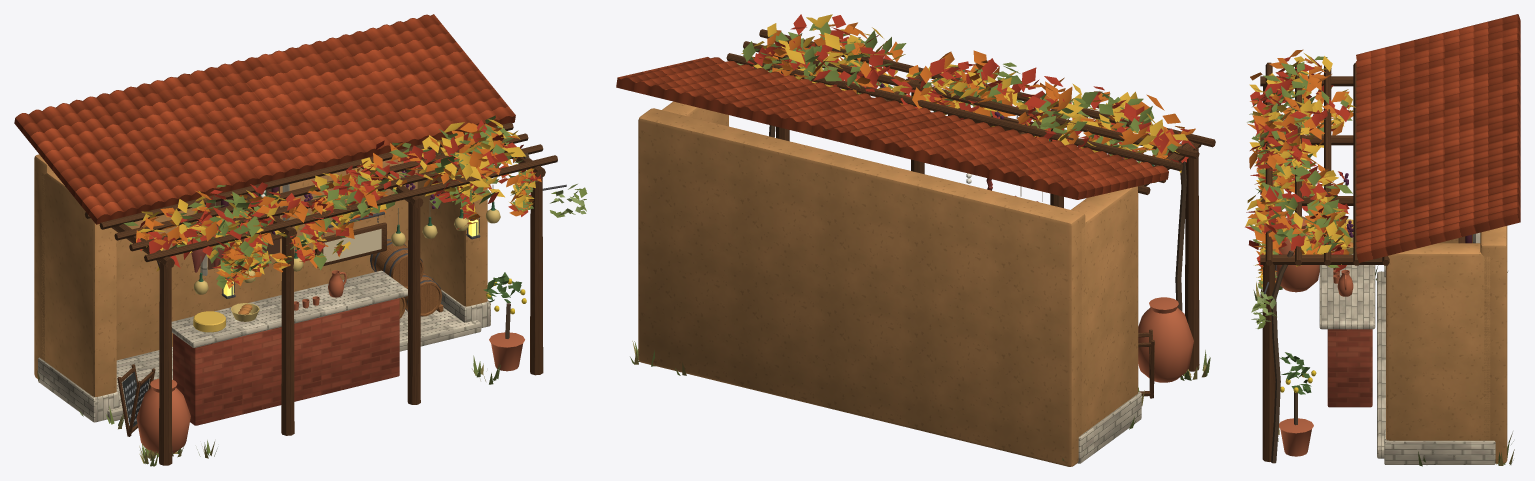
File: tavern-osteria.glb
3 views of the same model, side by side, from view 1: azimuth 30°, elevation 25°; view 2: azimuth 150°, elevation 25°; view 3: azimuth 270°, elevation 25° (orthographic). The views are drawn at different scales.
Parts seen in each view (by area): view 1: tavern_osteria, sign_face; view 2: tavern_osteria; view 3: tavern_osteria.
Part boxes in pixels (left/top/right/bottom): tavern_osteria: left=14, top=14, right=587, bottom=466; sign_face: left=323, top=229, right=381, bottom=262; tavern_osteria: left=616, top=14, right=1215, bottom=466; tavern_osteria: left=1245, top=14, right=1520, bottom=466.
Size of the model in its own units: 9 by 5.12 by 4.97.
Materials: 33 (7 with a texture image).
